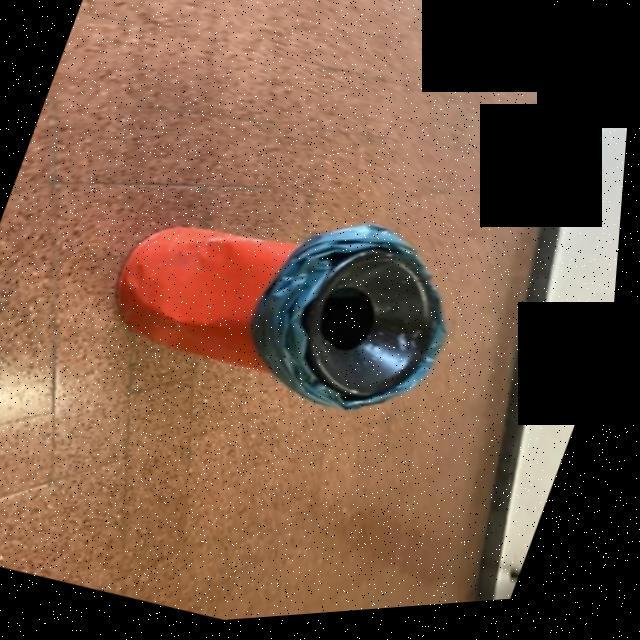bin: (63, 119, 534, 487)
